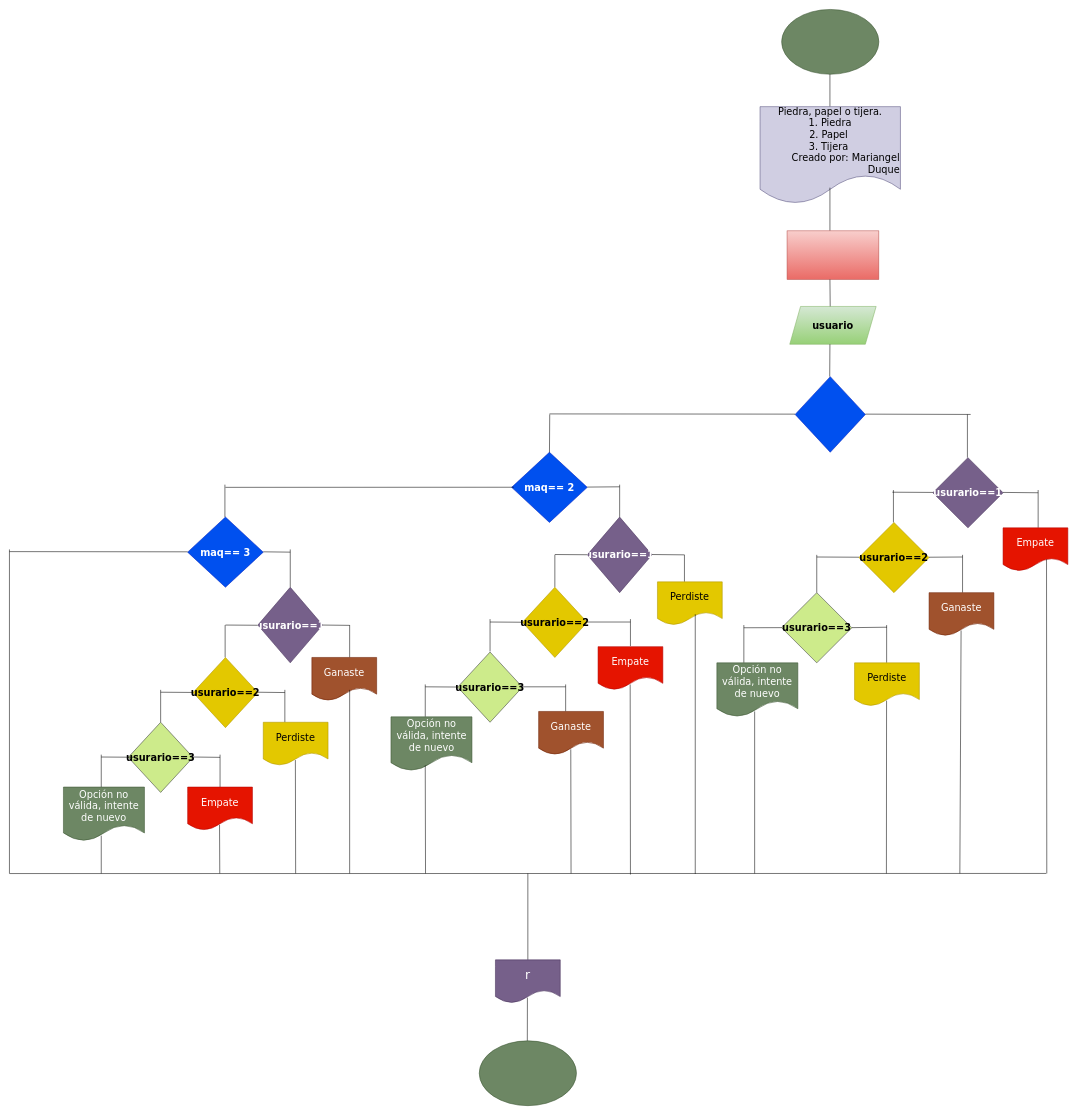
The diagram is 1077 pixels wide and 1115 high, and some of its shapes have lost their labels. The shapes that lost their labels are listed below. From the top down, each one's centre as x and y in pixels, then its label:
At point (830, 41): "INICIO".
At point (833, 254): "maq: randint (1,3)".
At point (830, 414): "maq== 1".
At point (527, 1073): "FIN".
